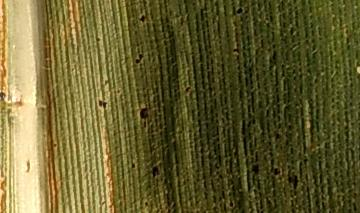tarspot: (131, 103, 155, 125), (284, 169, 304, 195), (93, 93, 111, 113), (248, 160, 263, 181), (131, 47, 145, 68), (147, 163, 163, 181), (134, 10, 151, 25), (269, 164, 284, 181), (271, 127, 284, 146), (232, 4, 247, 18), (182, 81, 195, 97), (229, 42, 243, 56), (90, 34, 105, 45), (128, 158, 138, 171)
